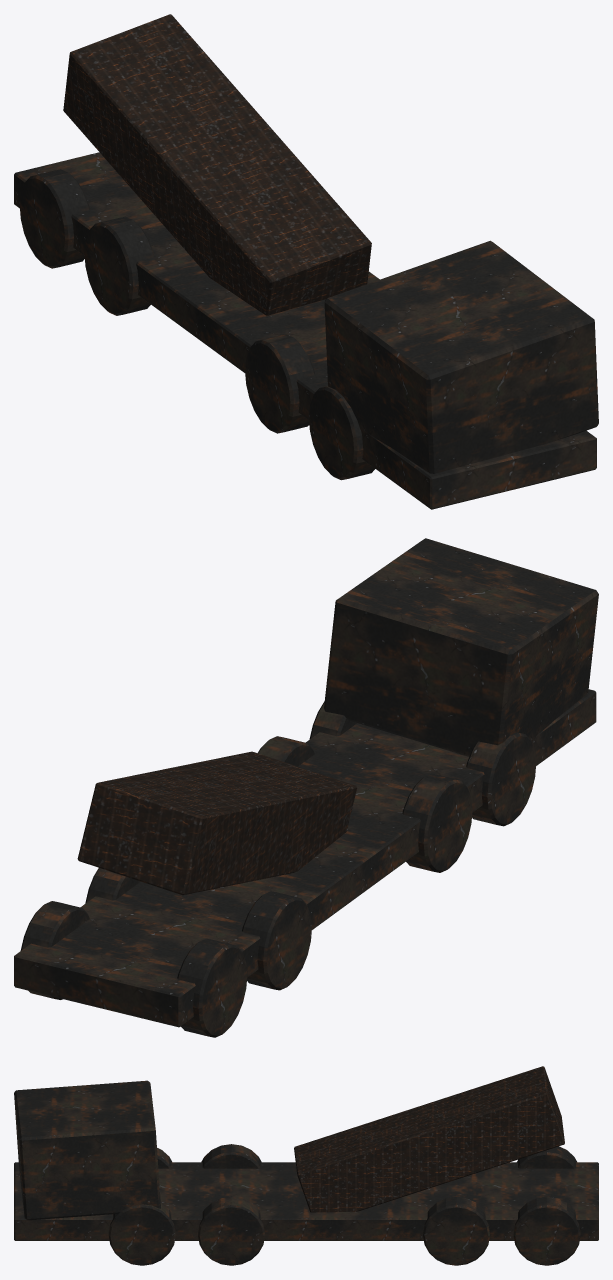
Rendered from vgd_seawraith_hemtt_wreck.glb.
3 views of the same model, one above another, from view 1: azimuth 30°, elevation 25°; view 2: azimuth 150°, elevation 25°; view 3: azimuth 270°, elevation 25° (orthographic). The views are drawn at different scales.
Visible parts, largest first — view 1: SeaWraith_HEMTT_Wreck_Charred, SeaWraith_HEMTT_Wreck_Burnt; view 2: SeaWraith_HEMTT_Wreck_Charred, SeaWraith_HEMTT_Wreck_Burnt; view 3: SeaWraith_HEMTT_Wreck_Charred, SeaWraith_HEMTT_Wreck_Burnt.
Part boxes in pixels (x1,y1,x2,y2): SeaWraith_HEMTT_Wreck_Charred: (14,152,598,509); SeaWraith_HEMTT_Wreck_Burnt: (63,14,371,315); SeaWraith_HEMTT_Wreck_Charred: (14,538,598,1037); SeaWraith_HEMTT_Wreck_Burnt: (77,751,356,895); SeaWraith_HEMTT_Wreck_Charred: (14,1080,598,1265); SeaWraith_HEMTT_Wreck_Burnt: (294,1066,564,1212).
Bounding box in the file's own units: 2.54 × 2.85 × 9.75.
2 materials, 2 textured.
